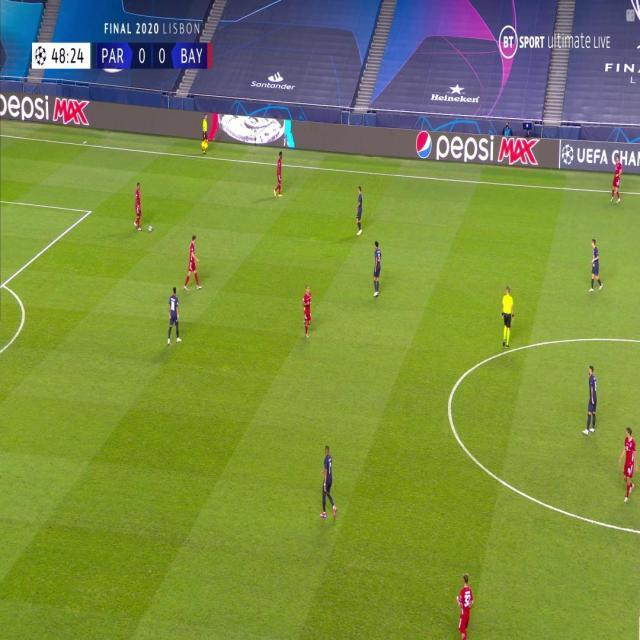ball: (147, 224, 153, 233)
player: (318, 442, 339, 520), (619, 424, 638, 504), (455, 572, 475, 640), (582, 363, 599, 437), (183, 234, 203, 292), (166, 285, 182, 347), (588, 236, 604, 293), (371, 238, 384, 299), (301, 282, 314, 339), (610, 154, 624, 205), (354, 183, 366, 237), (133, 181, 145, 232), (273, 151, 285, 198)
referee: (500, 283, 515, 351), (200, 113, 212, 155)
